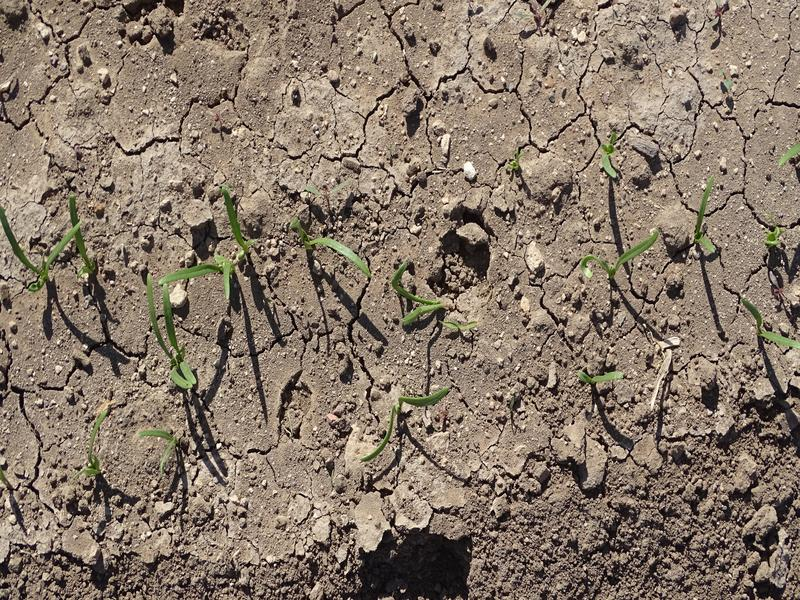Espinaca: (160, 192, 264, 288), (2, 196, 95, 280), (367, 383, 460, 459), (143, 273, 198, 391), (570, 232, 657, 292), (289, 222, 373, 277), (390, 259, 454, 319), (135, 423, 187, 475), (78, 408, 111, 480), (695, 180, 716, 258), (574, 365, 634, 387), (600, 135, 626, 177)
